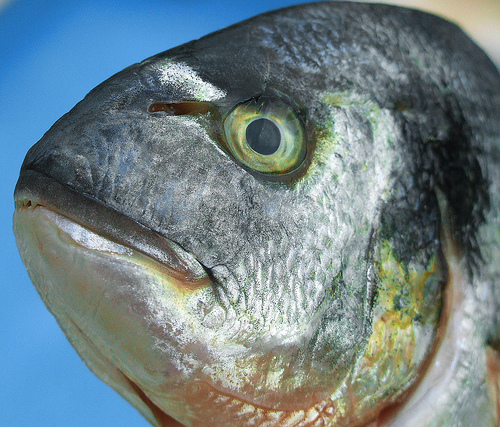fish: (12, 0, 498, 425)
